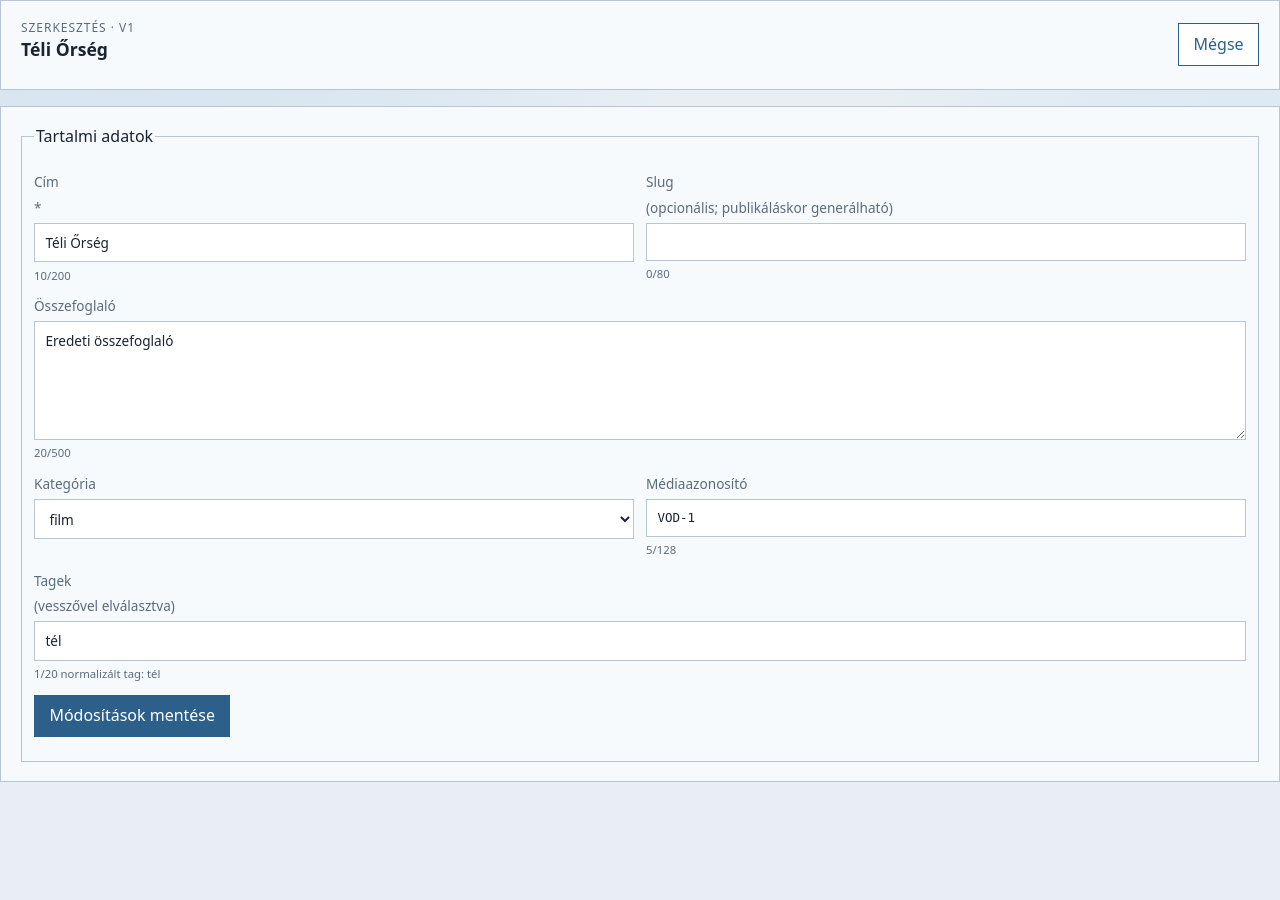
ContentEditPage › does not send a no-op PATCH or claim a version increase
The image size is (1280, 900).
What coordinates should you click on to do the following:
click the button "Módosítások mentése"
I would click on:
 (132, 716)
Its box is x1=34 y1=694 x2=230 y2=737.
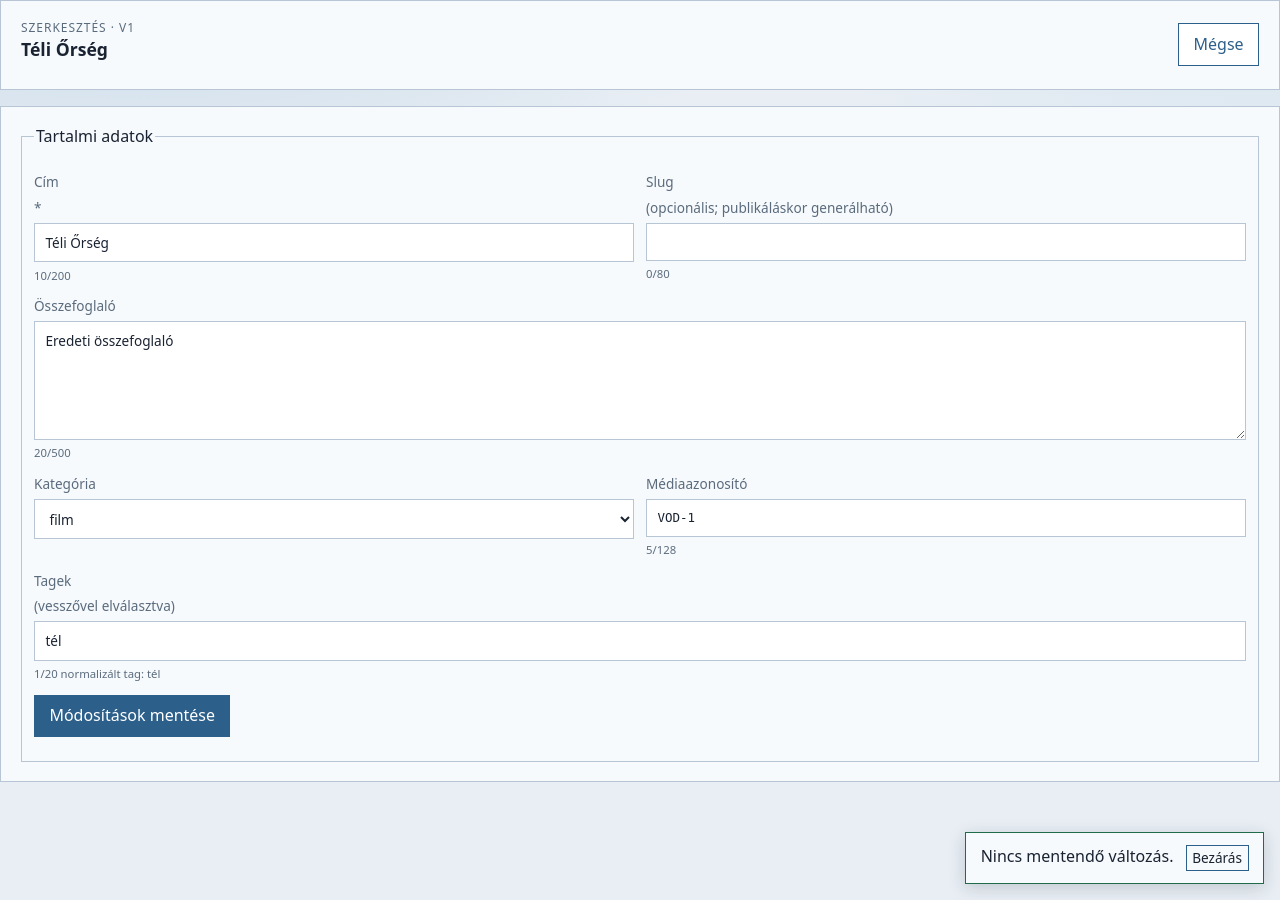
Now the text "Nincs mentendő változás." is shown, box x1=981 y1=844 x2=1174 y2=868
